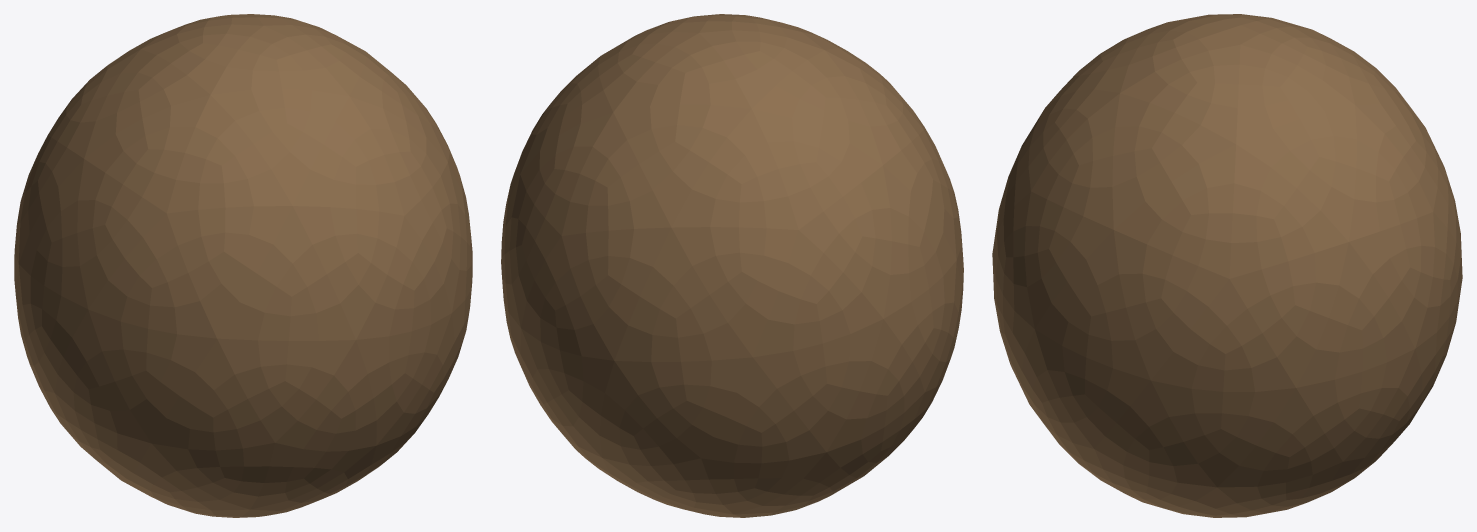
File: Coconut.fbx
3 views of the same model, side by side, from view 1: azimuth 30°, elevation 25°; view 2: azimuth 150°, elevation 25°; view 3: azimuth 270°, elevation 25° (orthographic). The views are drawn at different scales.
Parts seen in each view (by area): view 1: Icosphere.002; view 2: Icosphere.002; view 3: Icosphere.002.
Boxes of the visible parts, left/top/right/bottom form: Icosphere.002: left=14, top=14, right=472, bottom=517; Icosphere.002: left=501, top=14, right=963, bottom=517; Icosphere.002: left=992, top=14, right=1462, bottom=517.
Size of the model in its own units: 12.13 by 13.32 by 12.02.
